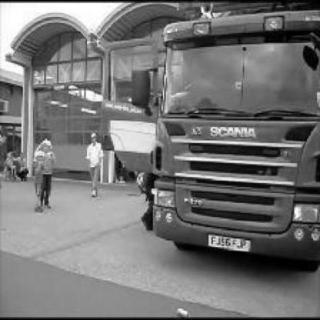other: (43, 96, 97, 114)
